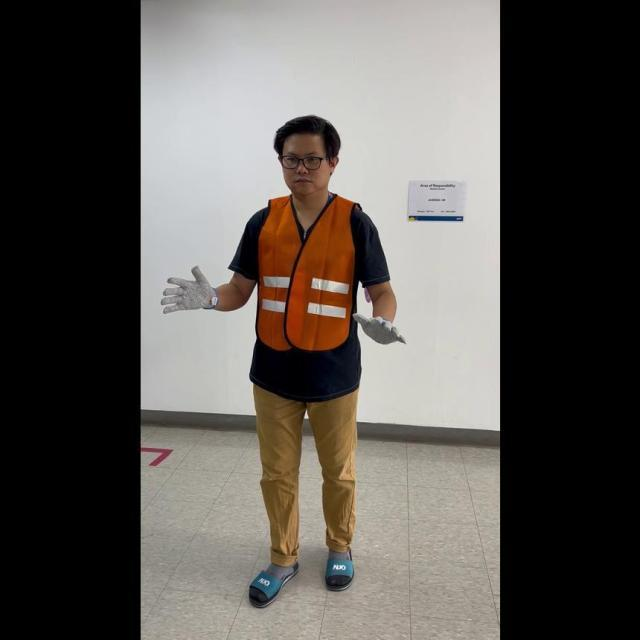gloved_hand: (159, 261, 219, 316), (348, 304, 406, 349)
